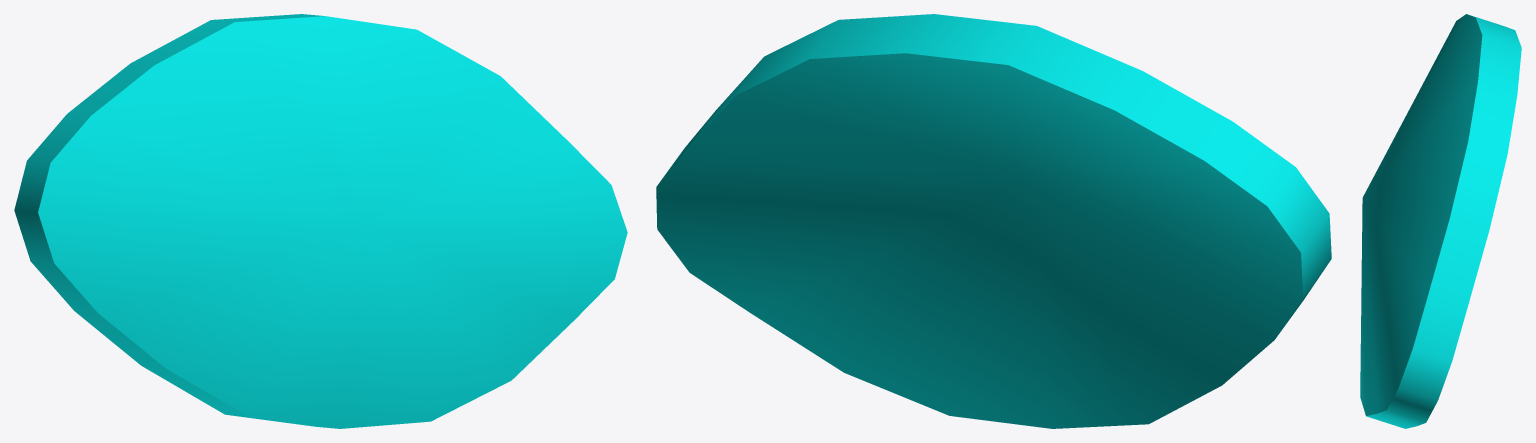
Rendered from Flog_brade.fbx.
3 renders of one model, left to right at view 1: azimuth 30°, elevation 25°; view 2: azimuth 150°, elevation 25°; view 3: azimuth 270°, elevation 25°, orthographic. The views are drawn at different scales.
Parts seen in each view (by area): view 1: polySurface458; view 2: polySurface458; view 3: polySurface458.
Part boxes in pixels (x1,y1,x2,y2): polySurface458: (14,14,627,428); polySurface458: (656,14,1331,428); polySurface458: (1360,14,1521,428).
Bounding box in the file's own units: 0.0226 × 0.015 × 0.00675.
